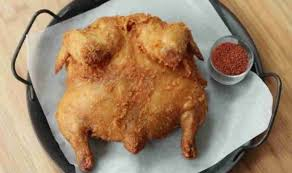Ayam goreng: (53, 13, 210, 172)
